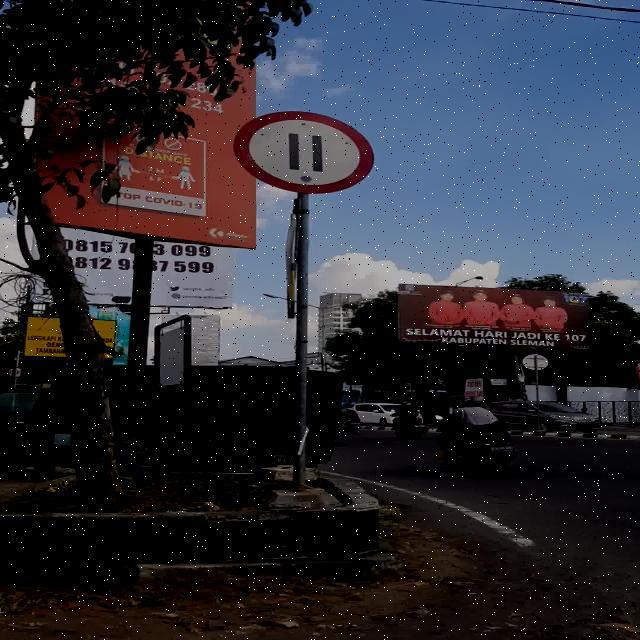Larangan Muatan - 10 ton: (234, 112, 374, 194)
